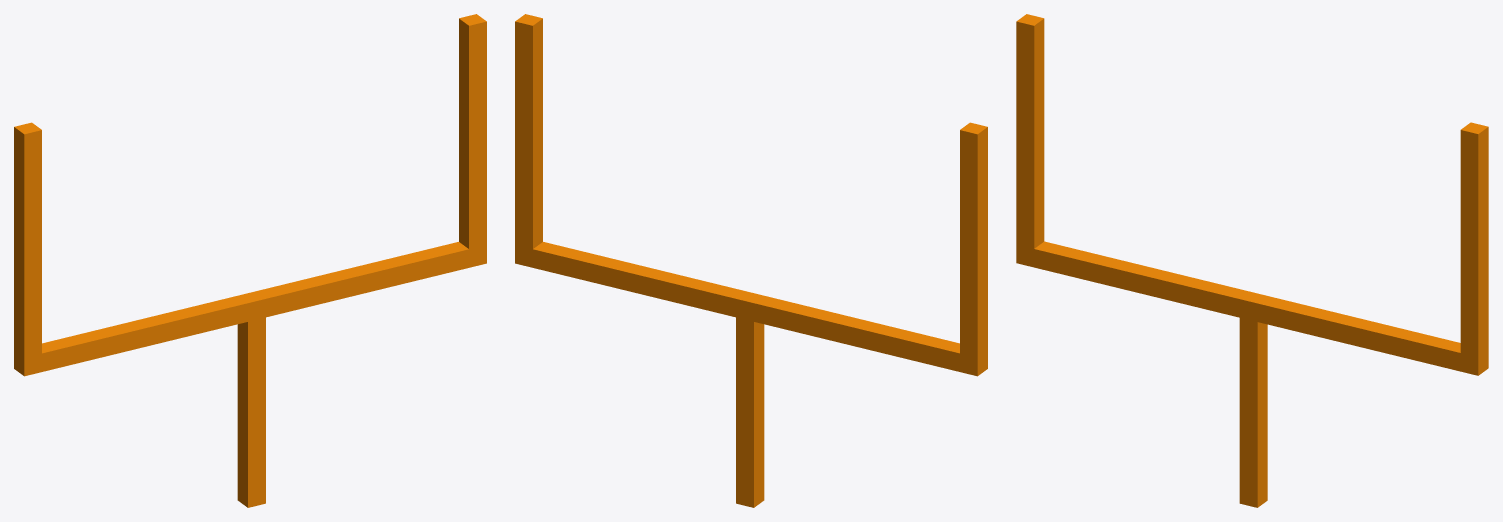
3 renders of one model, left to right at view 1: azimuth 30°, elevation 25°; view 2: azimuth 150°, elevation 25°; view 3: azimuth 330°, elevation 25°, orthographic.
Parts seen in each view (by area): view 1: group_0, group_1; view 2: group_0, group_1; view 3: group_0, group_1.
Boxes of the visible parts, x1,y1,x2,y2 form: group_0: [14, 14, 486, 376]; group_1: [237, 317, 265, 507]; group_0: [515, 14, 987, 376]; group_1: [736, 317, 764, 507]; group_0: [1016, 14, 1488, 375]; group_1: [1239, 318, 1267, 507].
Size of the model in its own units: 51.18 by 1.97 by 45.28.
